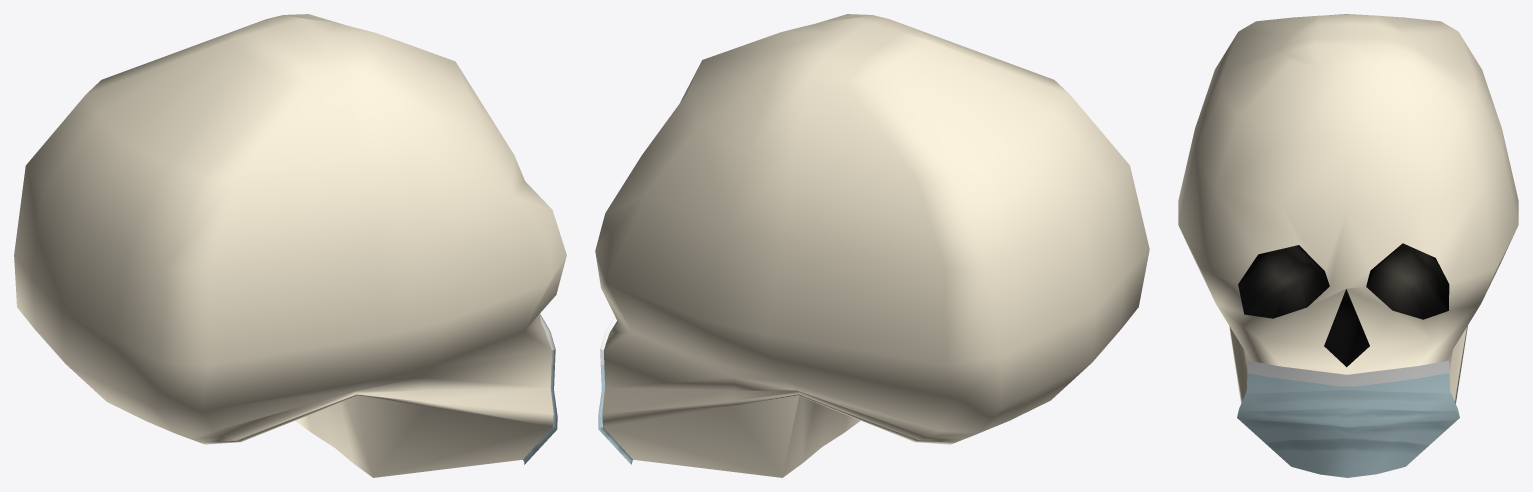
Rendered from skull.fbx.
The picture shows the model from 3 angles, left to right: view 1: azimuth 30°, elevation 25°; view 2: azimuth 150°, elevation 25°; view 3: azimuth 270°, elevation 25°; orthographic projection. The views are drawn at different scales.
Visible parts, largest first — view 1: skull; view 2: skull; view 3: skull.
Part boxes in pixels (<box>): skull: <box>14,14,566,477</box>; skull: <box>595,14,1149,477</box>; skull: <box>1178,14,1518,477</box>.
Bounding box in the file's own units: 3.82 × 3.46 × 2.99.
Materials: 1 (1 with a texture image).
